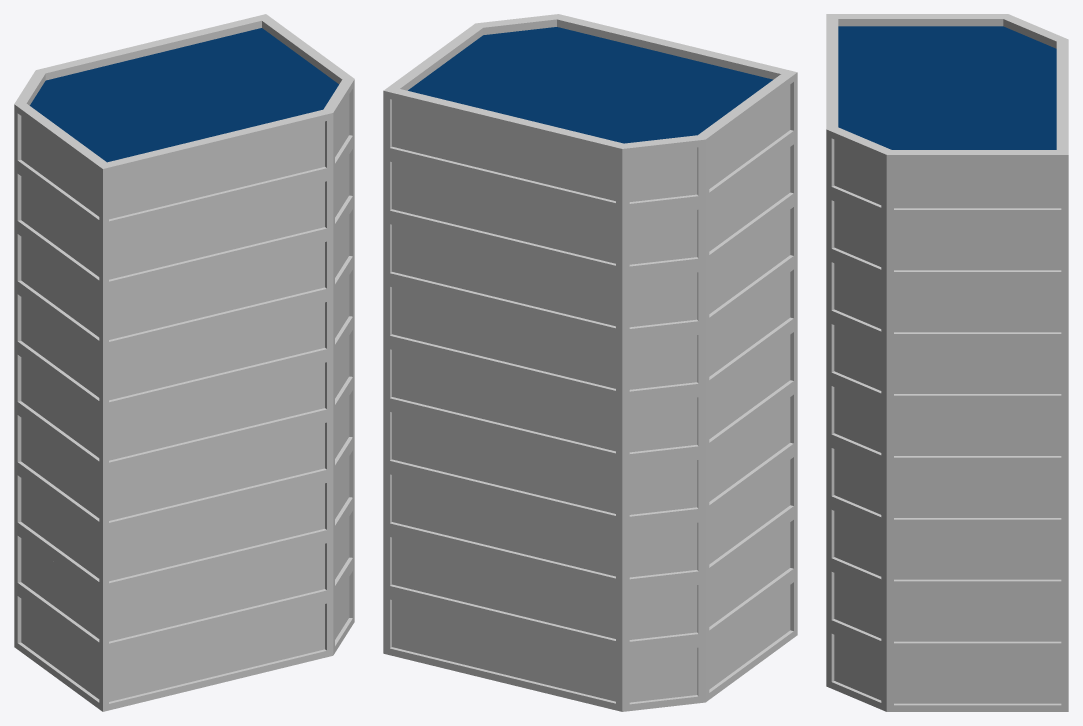
The model's file is Building2.fbx.
3 renders of one model, left to right at view 1: azimuth 30°, elevation 25°; view 2: azimuth 150°, elevation 25°; view 3: azimuth 270°, elevation 25°, orthographic. The views are drawn at different scales.
Parts seen in each view (by area): view 1: Cube; view 2: Cube; view 3: Cube.
Part boxes in pixels (x1=…): Cube: x1=14, y1=14, x2=354, y2=711; Cube: x1=383, y1=14, x2=797, y2=711; Cube: x1=826, y1=14, x2=1068, y2=711.
Size of the model in its own units: 275 by 507 by 200.
